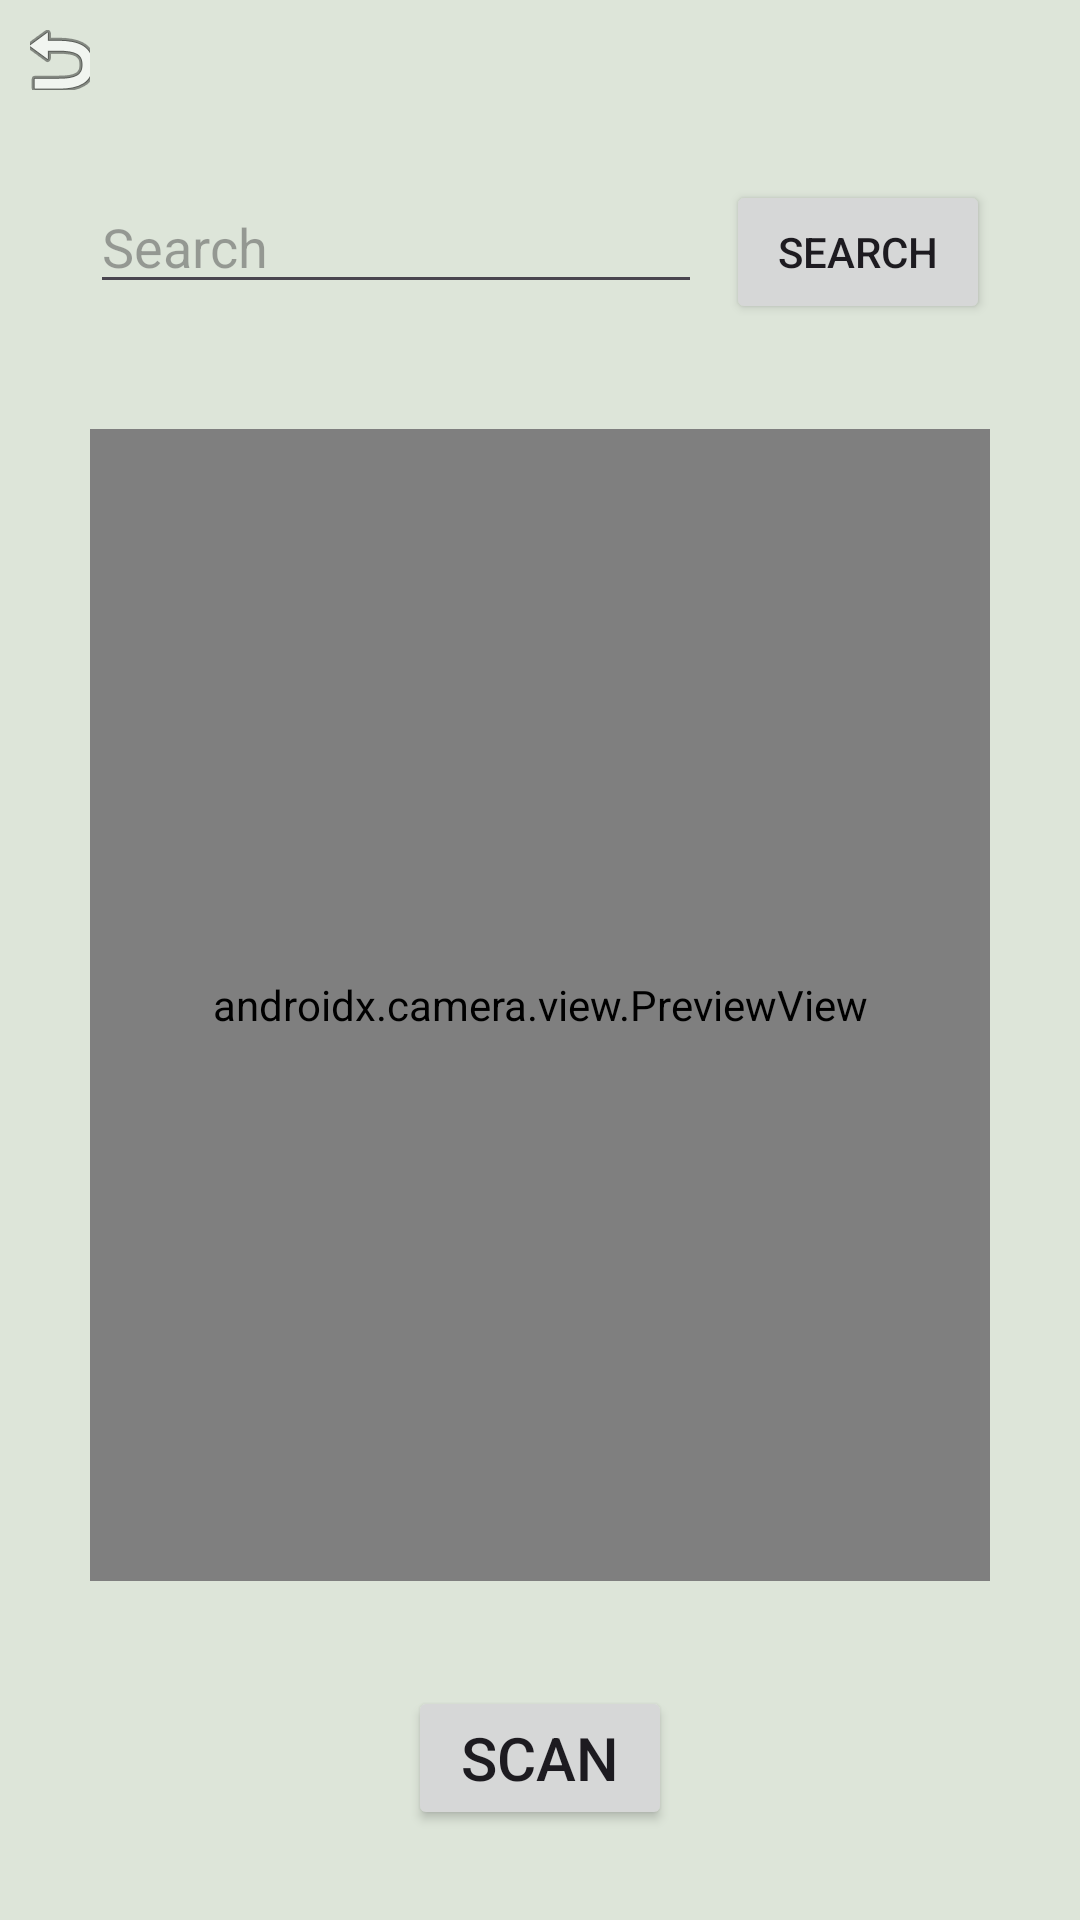

Where to tap for icons on this 1080w x 1920h app screen, as (x,y):
revert: (60,60)
